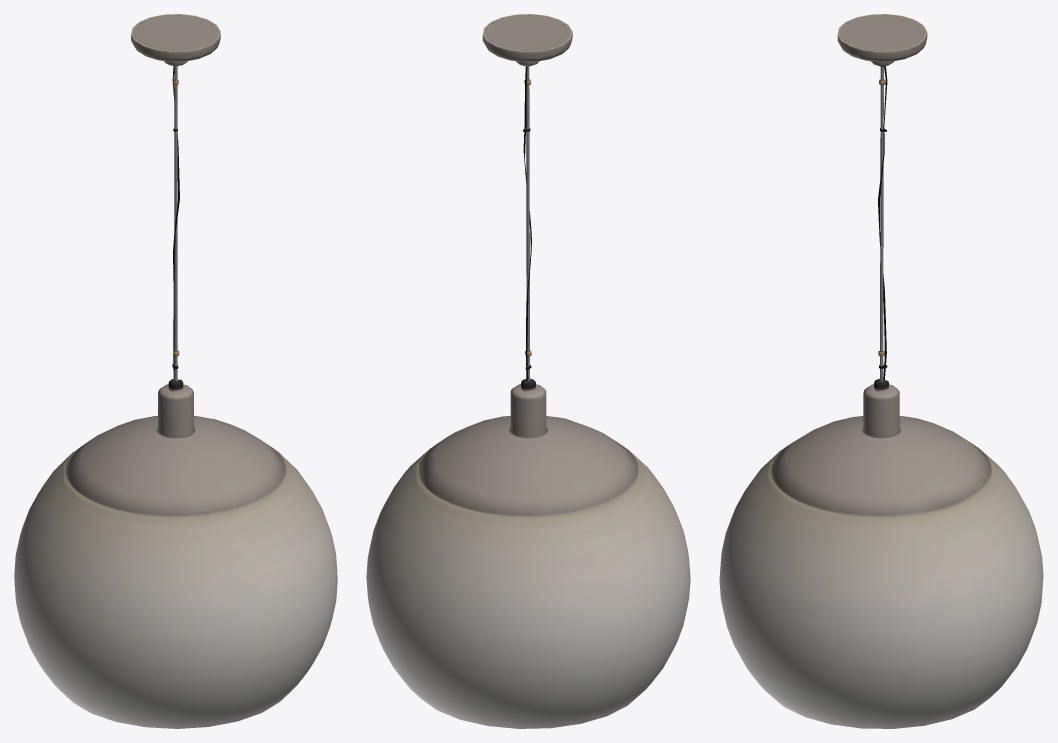
The model's file is pendant.glb.
3 views of the same model, side by side, from view 1: azimuth 30°, elevation 25°; view 2: azimuth 150°, elevation 25°; view 3: azimuth 270°, elevation 25° (orthographic).
Visible parts, largest first — view 1: modern_ceiling_lamp_01; view 2: modern_ceiling_lamp_01; view 3: modern_ceiling_lamp_01.
Part boxes in pixels (bbox=[...]): modern_ceiling_lamp_01: bbox=[14, 14, 337, 728]; modern_ceiling_lamp_01: bbox=[366, 14, 690, 728]; modern_ceiling_lamp_01: bbox=[719, 14, 1043, 728].
Size of the model in its own units: 0.4316 by 0.9512 by 0.4316.
2 materials, 2 textured.
